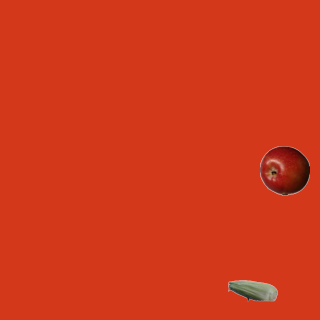Apple Braeburn: (259, 145, 309, 195)
Corn Husk: (227, 265, 277, 315)
